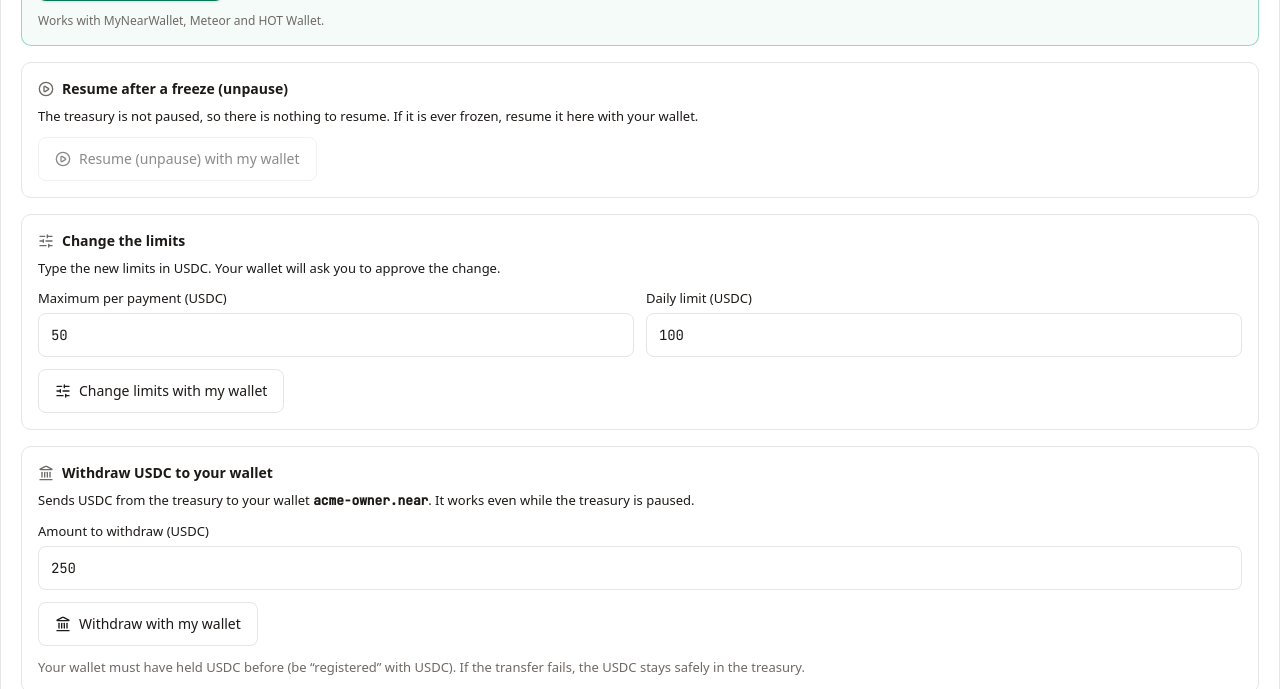
Test: treasury: how the money is organized › shows the exact owner-wallet commands, prefilled with the real accounts
(page scrolled)
Replace the text in the field with test id "owner-limits-max" with "75.5" at (336, 335), box [38,313,634,357]
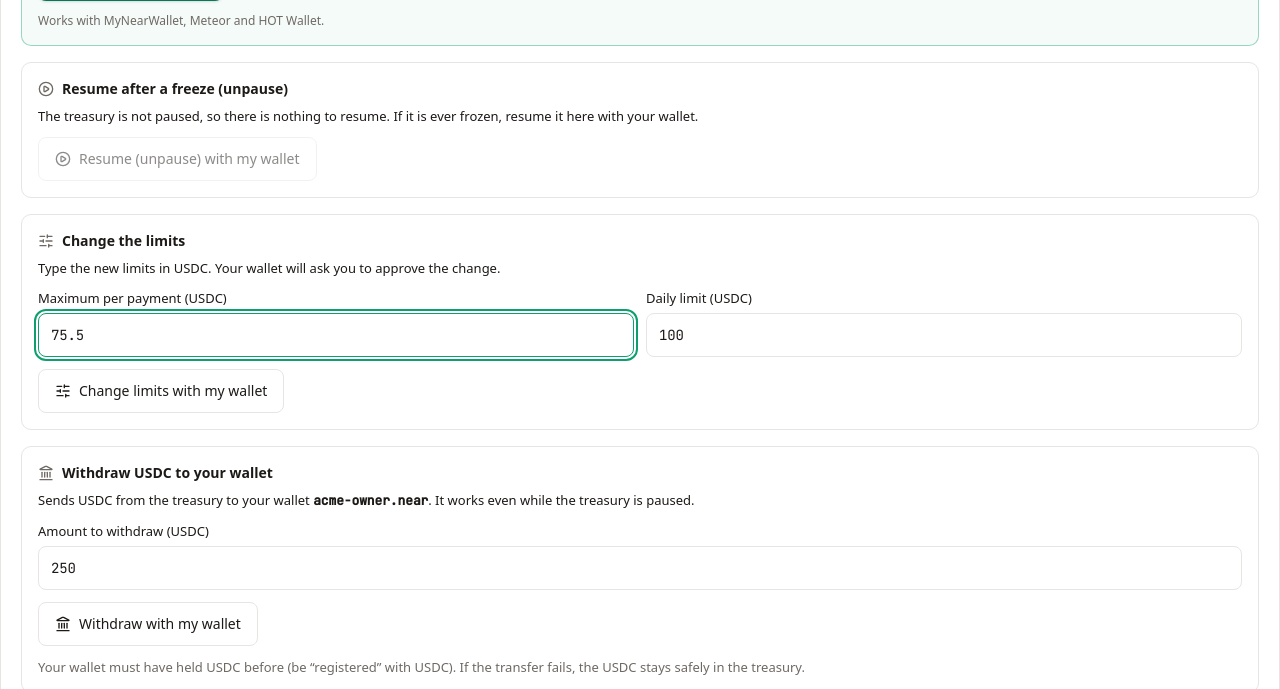
Replace the text in the field with test id "owner-limits-max" with "500" at (336, 335), box [38,313,634,357]
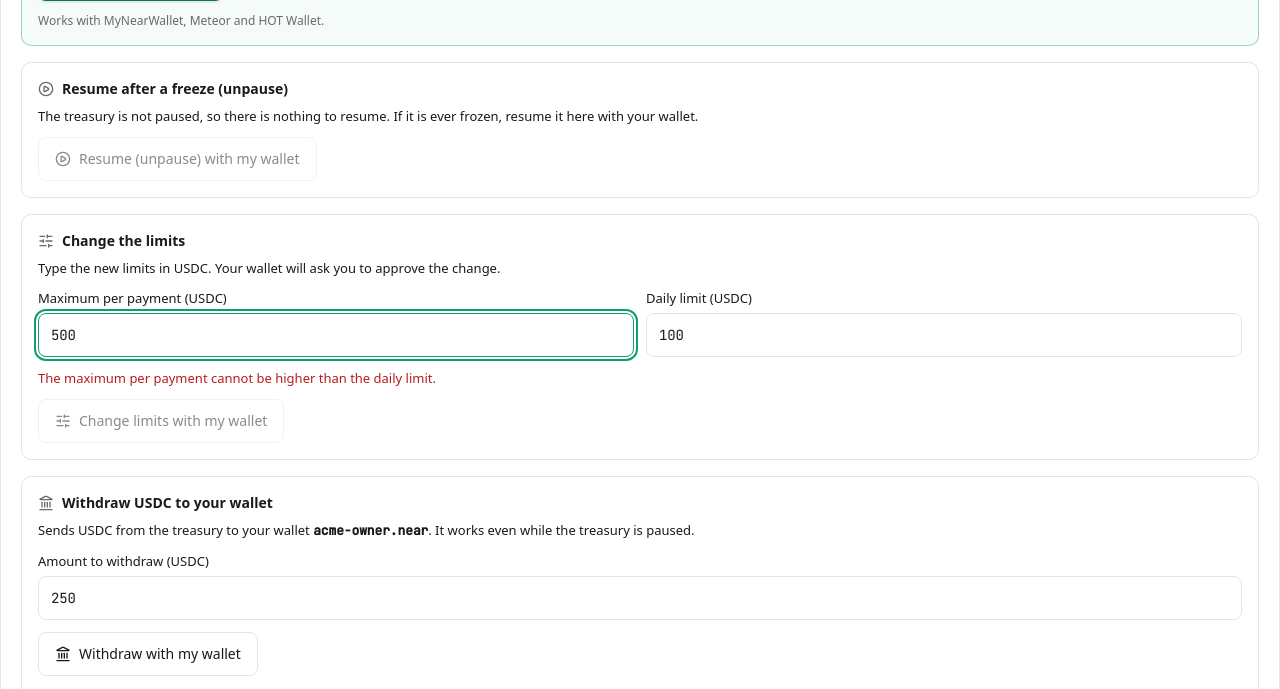
Check: the element with test id "owner-action-limits" shows "cannot be higher than the daily limit", box [38,369,436,387]
